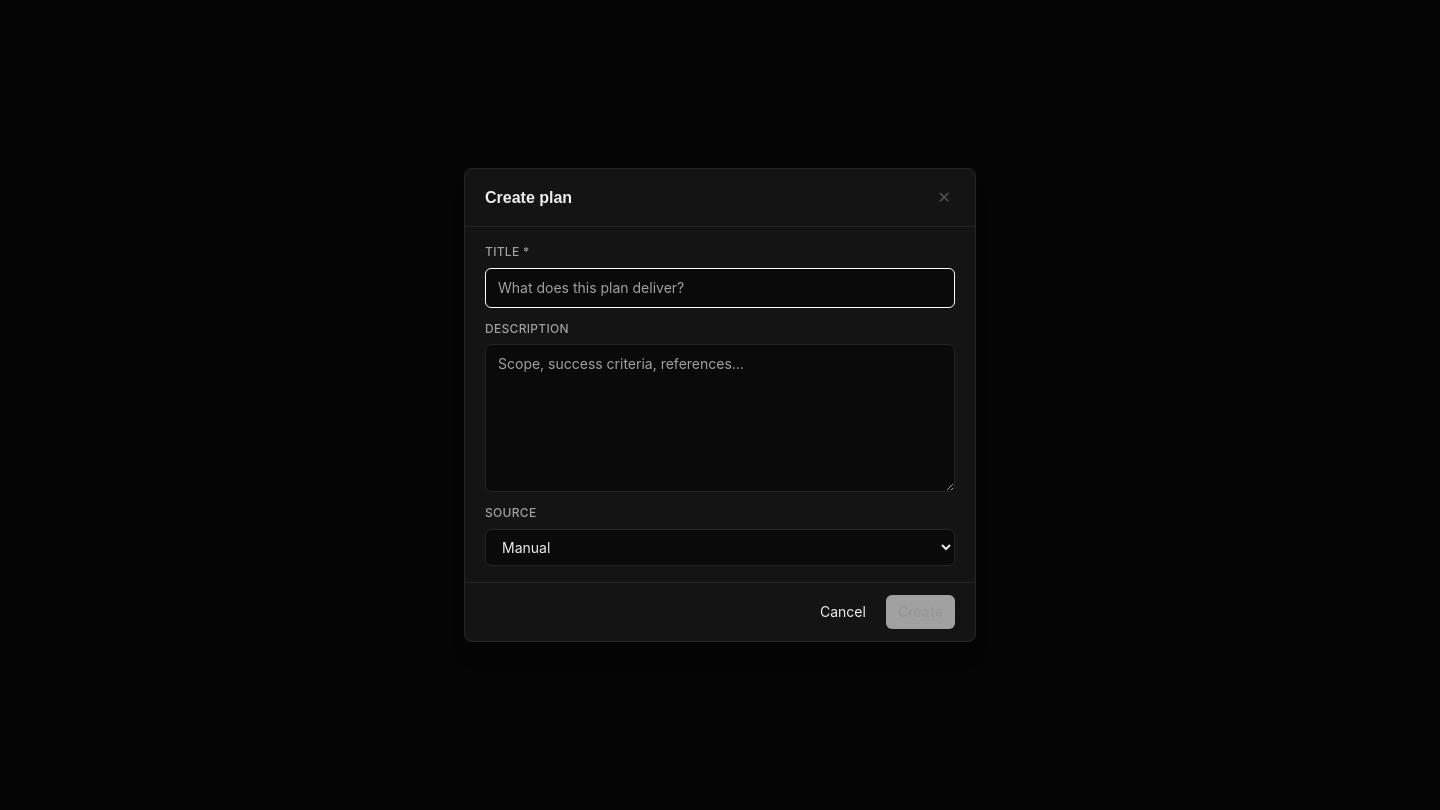
PlanCreateModal › surfaces daemon errors and re-enables submit
In the field with test id "plan-create-title": [720, 288] box [485,268,955,308], type "Dup"
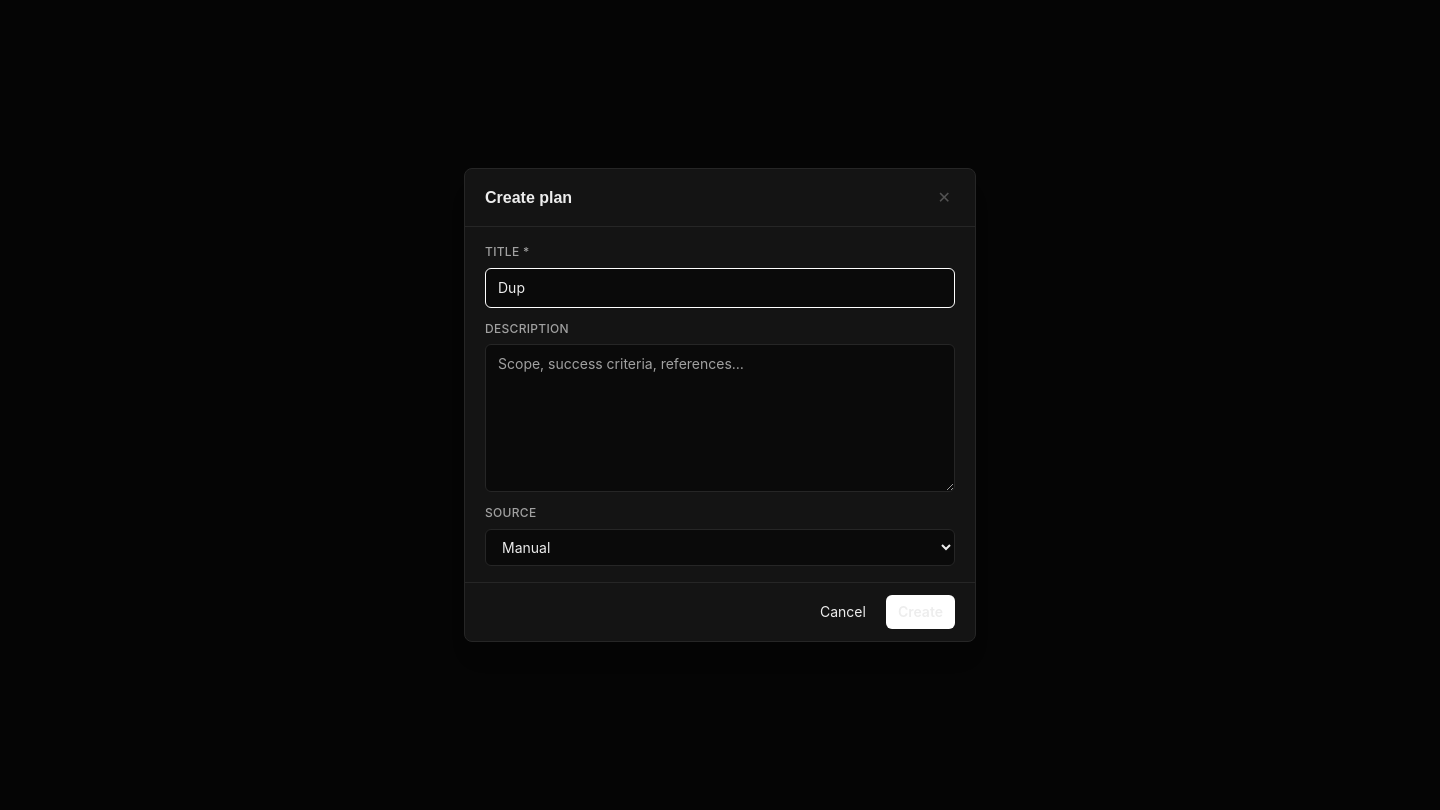
Click the button with test id "plan-create-submit": [920, 612] box [886,595,955,628]
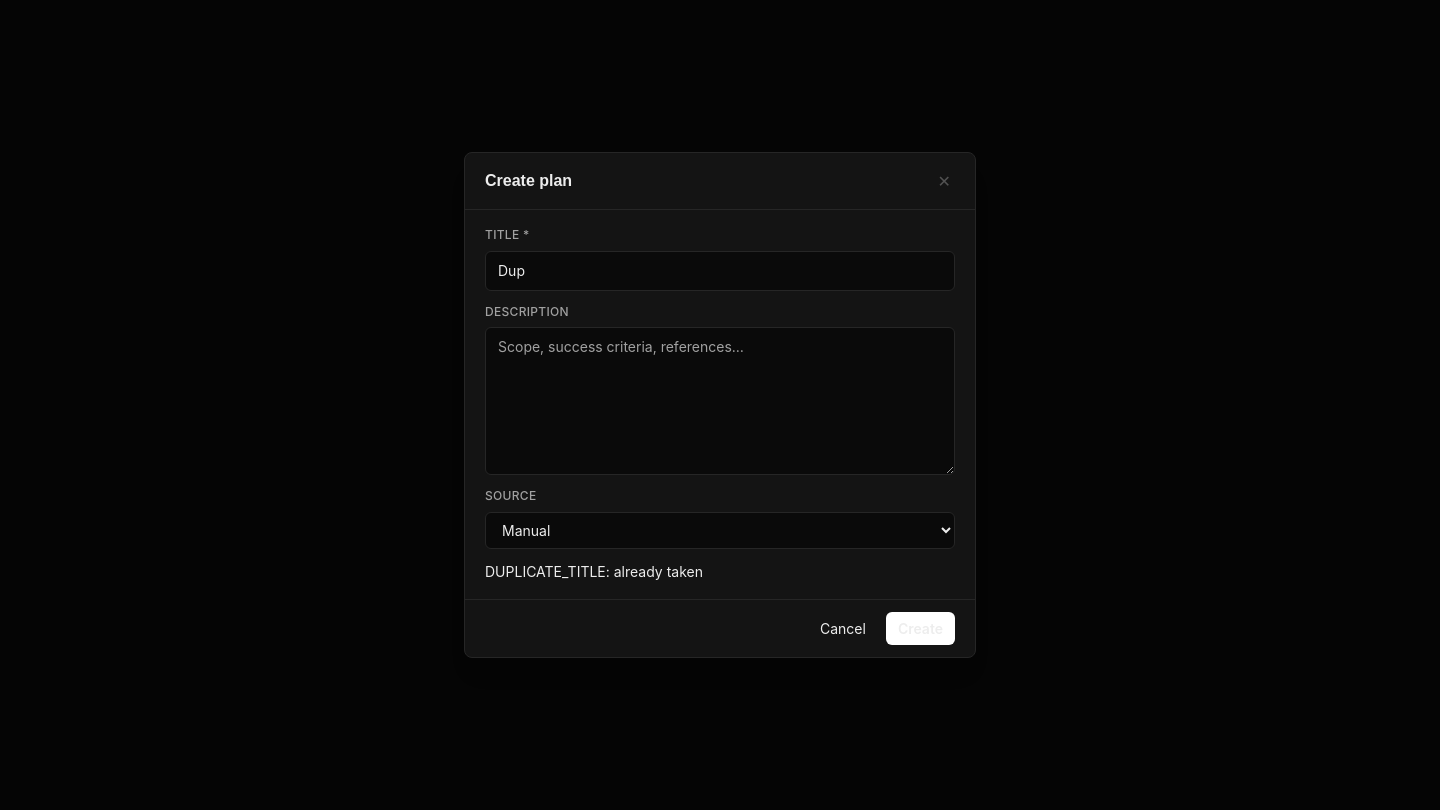
expect the button with test id "plan-create-submit" is enabled: met, box [886,612,955,645]
expect the message with test id "plan-create-error" reads "DUPLICATE_TITLE: already taken": met, box [485,563,703,580]
